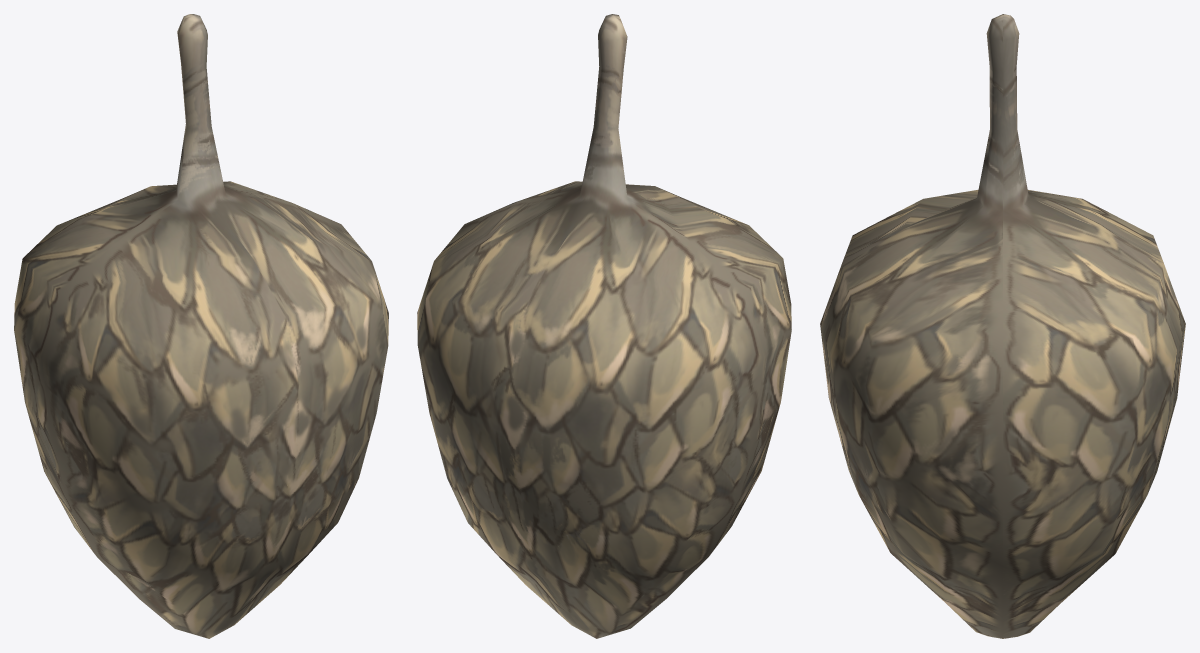
File: Magnolia_garrettii_fruit.fbx
3 views of the same model, side by side, from view 1: azimuth 30°, elevation 25°; view 2: azimuth 150°, elevation 25°; view 3: azimuth 270°, elevation 25° (orthographic).
Visible parts, largest first — view 1: fruit_LOD0; view 2: fruit_LOD0; view 3: fruit_LOD0.
Boxes of the visible parts, x1,y1,x2,y2 form: fruit_LOD0: (14,14,388,638); fruit_LOD0: (417,14,791,638); fruit_LOD0: (820,14,1185,638).
Size of what is drawn, in the model's own units: 35.12 by 65.57 by 35.12.
